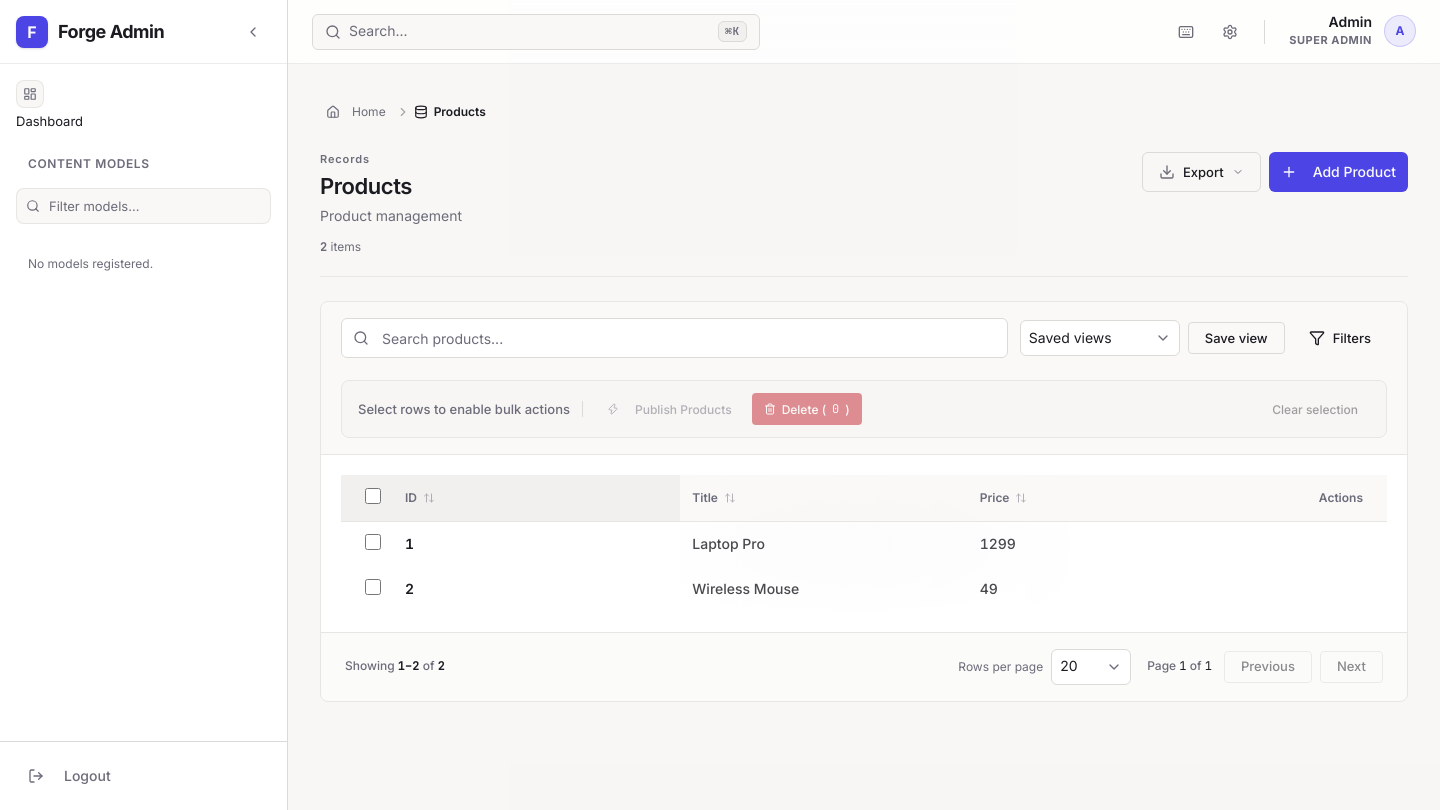
Test: ModelListPage › opens the save-view dialog instead of a native prompt
What coordinates should you click on to do the following:
click the button with test id "save-view-button"
I would click on:
 (1236, 338)
Its box is [1188,322,1285,354].
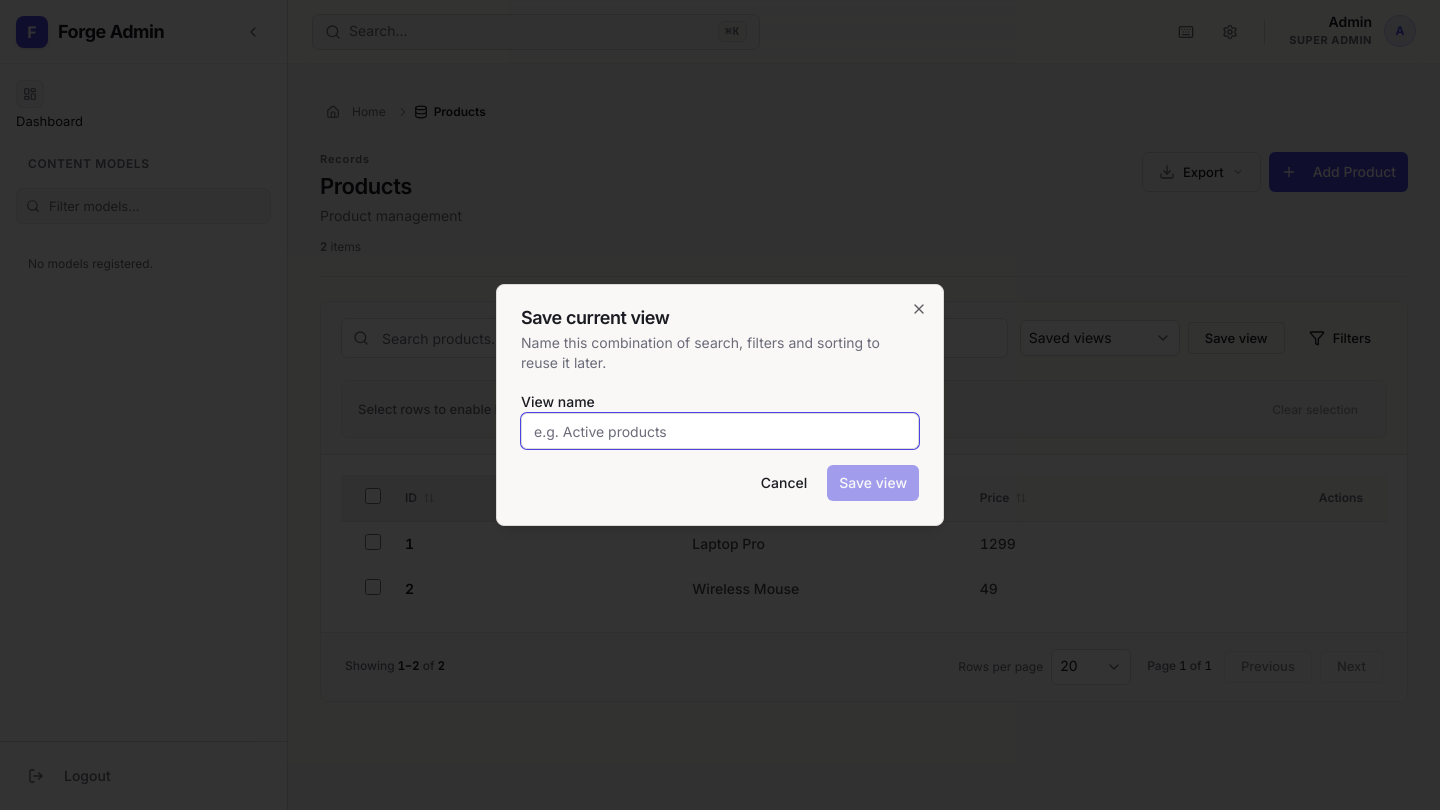
Result: the dialog with test id "save-view-dialog" is shown at [496,284,944,526]
Result: the field with test id "save-view-name" is shown at [521,413,919,449]
Result: the button with test id "save-view-confirm" is disabled at [827,465,919,501]
